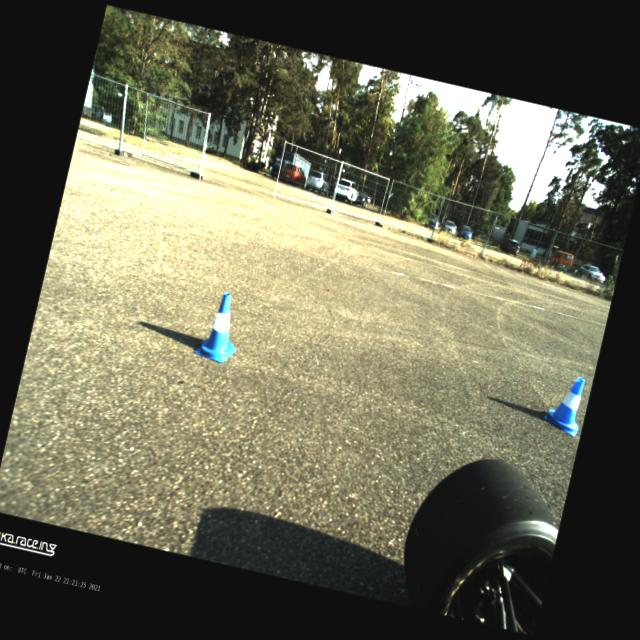blue_cone: (193, 288, 248, 366), (542, 372, 589, 436)
